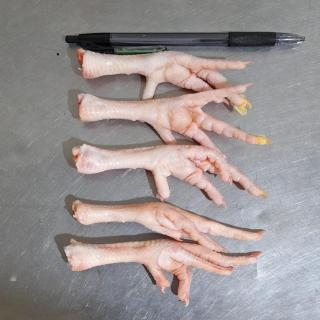Ayam: (78, 82, 275, 160), (62, 239, 266, 309), (71, 143, 270, 212), (76, 47, 255, 117), (71, 200, 269, 256)
